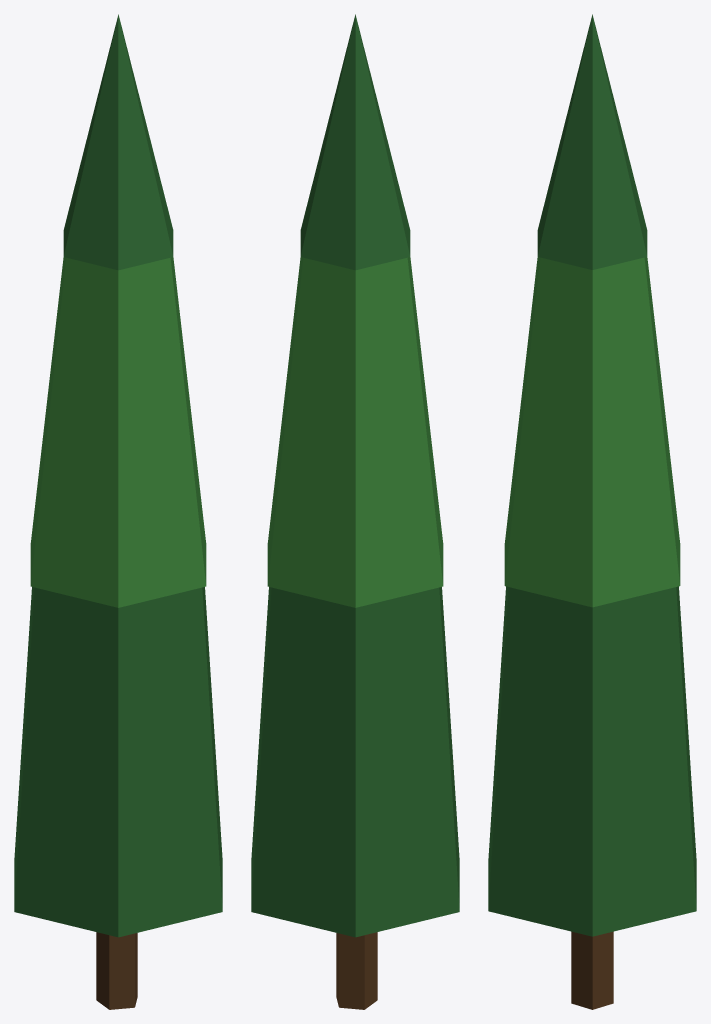
File: alamo.obj
3 views of the same model, side by side, from view 1: azimuth 30°, elevation 25°; view 2: azimuth 150°, elevation 25°; view 3: azimuth 270°, elevation 25° (orthographic).
Visible parts, largest first — view 1: alamo; view 2: alamo; view 3: alamo.
Part boxes in pixels (x1=…): alamo: x1=14, y1=14, x2=222, y2=1009; alamo: x1=251, y1=14, x2=459, y2=1009; alamo: x1=488, y1=14, x2=696, y2=1009.
Bounding box in the file's own units: 3.8 × 17.2 × 3.29.
